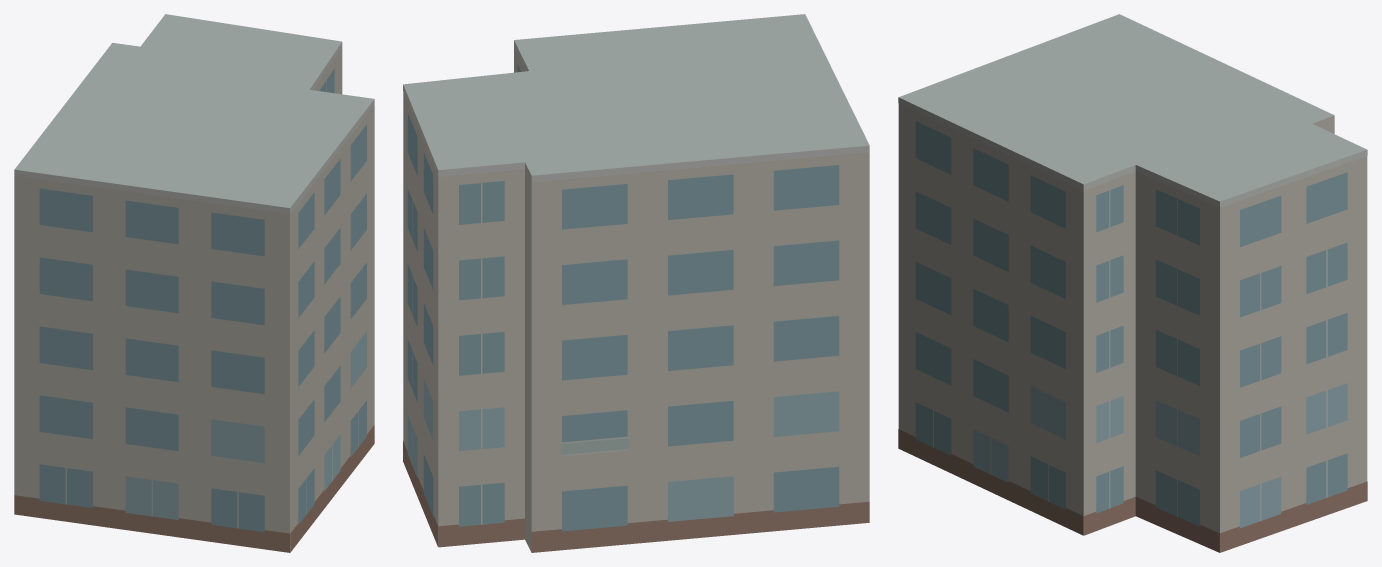
Rendered from survey-upis-32885924.glb.
3 views of the same model, side by side, from view 1: azimuth 30°, elevation 25°; view 2: azimuth 150°, elevation 25°; view 3: azimuth 270°, elevation 25° (orthographic). The views are drawn at different scales.
Visible parts, largest first — view 1: survey-upis-32885924.tmp; view 2: survey-upis-32885924.tmp; view 3: survey-upis-32885924.tmp.
Part boxes in pixels (box(x1,y1,x2,y2)): survey-upis-32885924.tmp: box(14, 14, 374, 552); survey-upis-32885924.tmp: box(403, 14, 869, 552); survey-upis-32885924.tmp: box(898, 14, 1367, 552).
Bounding box in the file's own units: 15.92 × 13.9 × 16.82.
